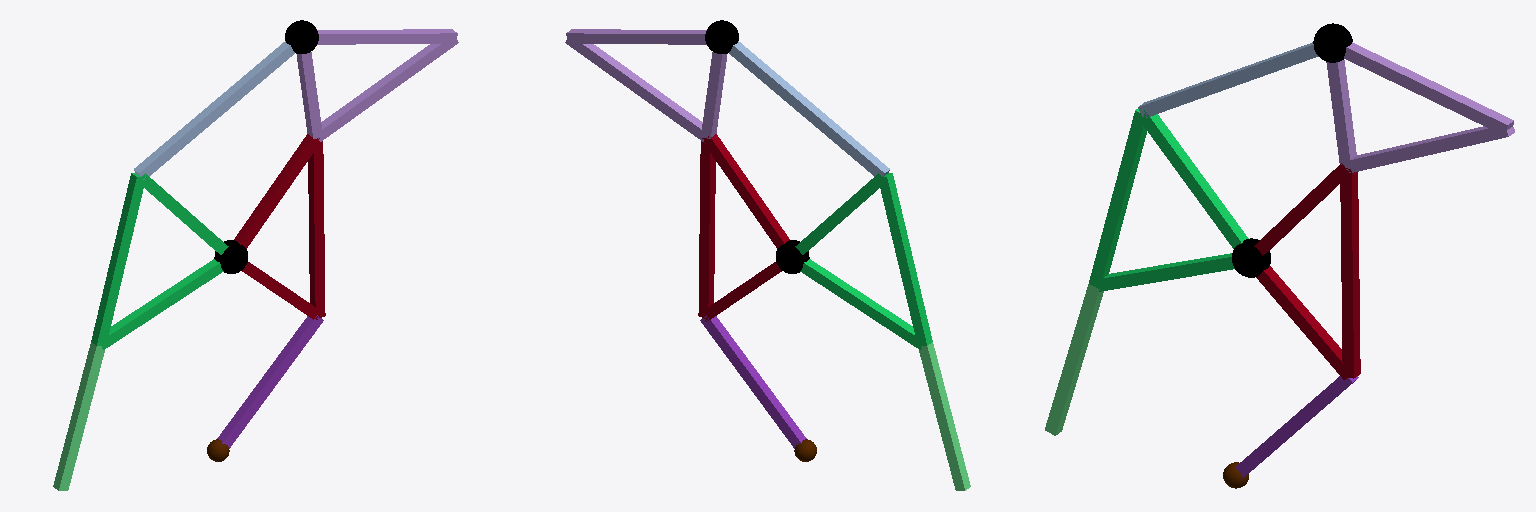
The robot description file, URDF, robot "Robot":
<?xml version="1.0"?>
<robot  name="Robot" >
 <link  name="L3" >
  <visual >
   <origin  rpy="0.0 0.0 0.0"  xyz="-0.0 0.0 0.73786" />
   <geometry >
    <box  size="0.1 0.1 1.4757188079034569" />
   </geometry>
   <material  name="link4_material" >
    <color  rgba="0.5846546273511518 0.27216364093311685 0.7412860803922848 0.7" />
   </material>
  </visual>
  <collision >
   <origin  rpy="0.0 0.0 0.0"  xyz="-0.0 0.0 0.73786" />
   <geometry >
    <box  size="0.1 0.1 1.4757188079034569" />
   </geometry>
   <material  name="link4_material" >
    <color  rgba="0.5846546273511518 0.27216364093311685 0.7412860803922848 0.7" />
   </material>
  </collision>
  <inertial >
   <origin  rpy="0.0 0.0 0.0"  xyz="-0.0 0.0 0.73786" />
   <mass  value="20.807635191438745" />
   <inertia  izz="0.03467939198573125"  iyz="0.0"  ixy="0.0"  ixx="3.7934850549607786"  ixz="0.0"  iyy="3.7934850549607786" />
  </inertial>
 </link>
 <link  name="G" >
  <visual >
   <origin  rpy="0.0 0.0 0.0"  xyz="0.0 0.0 0.0" />
   <geometry >
    <sphere  radius="0.1" />
   </geometry>
   <material  name="link4_material" >
    <color  rgba="0.35370327782722344 0.17731135106041473 0.01819704017948298 0.7" />
   </material>
  </visual>
  <inertial >
   <origin  rpy="0.0 0.0 0.0"  xyz="0.0 0.0 0.0" />
   <mass  value="5.906194188748811" />
   <inertia  izz="0.02362477675499525"  iyz="0.0"  ixy="0.0"  ixx="0.02362477675499525"  ixz="0.0"  iyy="0.02362477675499525" />
  </inertial>
 </link>
 <link  name="L4" >
  <visual >
   <origin  rpy="-3.141592653589793 -0.7330038377215442 3.141592653589793"  xyz="-0.4333703816113429 0.0 1.2668113957263092" />
   <geometry >
    <box  size="0.1 0.1 1.2953733052676362" />
   </geometry>
   <material  name="link4_material" >
    <color  rgba="0.6026866302554417 0.01475141505583688 0.12010644155545103 0.7" />
   </material>
  </visual>
 
  <visual >
   <origin  rpy="0.0 3.5083047578154947e-14 0.0"  xyz="-5.551115123125783e-15 0.0 0.8740756546203539" />
   <geometry >
    <box  size="0.1 0.1 1.7481513092407077" />
   </geometry>
   <material  name="link4_material" >
    <color  rgba="0.6026866302554417 0.01475141505583688 0.12010644155545103 0.7" />
   </material>
  </visual>
 
  <visual >
   <origin  rpy="3.141592653589793 0.8345467114834904 3.141592653589793"  xyz="-0.43337038161133734 0.0 0.3927357411059552" />
   <geometry >
    <box  size="0.1 0.1 1.1697029537450951" />
   </geometry>
   <material  name="link4_material" >
    <color  rgba="0.6026866302554417 0.01475141505583688 0.12010644155545103 0.7" />
   </material>
  </visual>
 
  <inertial >
   <origin  rpy="0.0 -0.013157135472749326 0.0"  xyz="1.011 0.0 1.075" />
   <mass  value="0.07575970000000001" />
   <inertia  izz="185.87635530348638"  iyz="5.3605334040060074e-17"  ixy="1.864105445224134e-16"  ixx="18.585762589772816"  ixz="-30.26657345219157"  iyy="204.28408259825912" />
  </inertial>
 </link>
 <link  name="EE" >
  <visual >
   <origin  rpy="0.0 0.0 0.0"  xyz="0.0 0.0 0.7729016755060114" />
   <geometry >
    <box  size="0.1 0.1 1.5458033510120228" />
   </geometry>
   <material  name="link4_material" >
    <color  rgba="0.6997945221999881 0.5523558028739272 0.8214354914598653 0.7" />
   </material>
  </visual>
 
  <visual >
   <origin  rpy="0.0 -1.2846999394537875 0.0"  xyz="-0.4800125446190915 0.0 0.14120360125827047" />
   <geometry >
    <box  size="0.1 0.1 1.0007007544715851" />
   </geometry>
   <material  name="link4_material" >
    <color  rgba="0.6997945221999881 0.5523558028739272 0.8214354914598653 0.7" />
   </material>
  </visual>
 
  <visual >
   <origin  rpy="-3.141592653589793 -0.649792184270373 3.141592653589793"  xyz="-0.4800125446190915 0.0 0.9141052767642819" />
   <geometry >
    <box  size="0.1 0.1 1.586763372403081" />
   </geometry>
   <material  name="link4_material" >
    <color  rgba="0.6997945221999881 0.5523558028739272 0.8214354914598653 0.7" />
   </material>
  </visual>
 
  <inertial >
   <origin  rpy="0.0 1.1453466894248545 0.0"  xyz="0.988 0.0 2.823" />
   <mass  value="0.07420049999999997" />
   <inertia  izz="236.79830132929632"  iyz="0.0"  ixy="0.0"  ixx="472.19767887470726"  ixz="329.3859390125132"  iyy="708.8216090290036" />
  </inertial>
 </link>
 <link  name="L6" >
  <visual >
   <origin  rpy="0.0 0.0 0.0"  xyz="0.0 0.0 0.6862" />
   <geometry >
    <box  size="0.1 0.1 1.3724011804133658" />
   </geometry>
   <material  name="link4_material" >
    <color  rgba="0.4375502931481964 0.8903025395580061 0.5605078254013421 0.7" />
   </material>
  </visual>
 
  <inertial >
   <origin  rpy="0.0 0.0 0.0"  xyz="0.0 0.0 0.6862" />
   <mass  value="19.35085664382846" />
   <inertia  izz="0.03225142773971411"  iyz="0.0"  ixy="0.0"  ixx="3.0533797326866274"  ixz="0.0"  iyy="3.0533797326866274" />
  </inertial>
 </link>
 <link  name="L5" >
  <visual >
   <origin  rpy="0.0 -1.0072807061778262 0.0"  xyz="0.5847109133820485 0.0 1.2285098281136912" />
   <geometry >
    <box  size="0.1 0.1 1.383305100113493" />
   </geometry>
   <material  name="link4_material" >
    <color  rgba="0.11417043807492533 0.8108410874863728 0.39544813532895906 0.7" />
   </material>
  </visual>
 
  <visual >
   <origin  rpy="-3.141592653589793 -0.937225197803735 3.141592653589793"  xyz="0.5847109133820484 0.0 0.4295278195553005" />
   <geometry >
    <box  size="0.1 0.1 1.45104238394335" />
   </geometry>
   <material  name="link4_material" >
    <color  rgba="0.11417043807492533 0.8108410874863728 0.39544813532895906 0.7" />
   </material>
  </visual>
 
  <visual >
   <origin  rpy="0.0 -6.661338147750939e-16 0.0"  xyz="1.1102230246251565e-16 0.0 0.7989820085583907" />
   <geometry >
    <box  size="0.1 0.1 1.5979640171167815" />
   </geometry>
   <material  name="link4_material" >
    <color  rgba="0.11417043807492533 0.8108410874863728 0.39544813532895906 0.7" />
   </material>
  </visual>
 
  <inertial >
   <origin  rpy="0.0 0.2581837243147247 0.0"  xyz="-1.216 0.0 1.317" />
   <mass  value="0.09343470000000005" />
   <inertia  izz="381.84130620143867"  iyz="-3.339889843882013e-17"  ixy="2.862557175833391e-16"  ixx="14.817131836184332"  ixz="16.367869362284935"  iyy="396.4388664926229" />
  </inertial>
 </link>
 <link  name="L7" >
  <visual >
   <origin  rpy="0.0 0.0 0.0"  xyz="0.0 0.0 0.9555" />
   <geometry >
    <box  size="0.1 0.1 1.9110083725614602" />
   </geometry>
   <material  name="link4_material" >
    <color  rgba="0.6420406309170132 0.7394334214443012 0.8687690999627885 0.7" />
   </material>
  </visual>
 
  <inertial >
   <origin  rpy="0.0 0.0 0.0"  xyz="0.0 0.0 0.9555" />
   <mass  value="26.945218053116594" />
   <inertia  izz="0.044908696755194336"  iyz="0.0"  ixy="0.0"  ixx="8.222676840438707"  ixz="0.0"  iyy="8.222676840438707" />
  </inertial>
 </link>
 <joint  name="Gabs"  type="revolute" >
  <parent  link="G" />
  <child  link="L3" />
  <origin  rpy="0.0 0.7547270559595018 0.0"  xyz="0.0 0.0 0.0" />
  <axis  xyz="0 1 0" />
  <limit  lower="-3.141592653589793"  effort="1"  velocity="10"  upper="3.141592653589793" />
  <dynamics  friction="0"  damping="0.05" />
 </joint>
 <joint  name="J1m"  type="revolute" >
  <parent  link="L3" />
  <child  link="L4" />
  <origin  rpy="0.0 -0.767884191432251 0.0"  xyz="-3.618927976152817e-17 0.0 1.4757188079034569" />
  <axis  xyz="0 1 0" />
  <limit  lower="-3.141592653589793"  effort="1"  velocity="10"  upper="3.141592653589793" />
  <dynamics  friction="0"  damping="0.05" />
 </joint>
 <joint  name="J2m"  type="revolute" >
  <parent  link="L4" />
  <child  link="EE" />
  <origin  rpy="0.0 1.1585038248976036 0.0"  xyz="-1.1102230246251565e-14 0.0 1.7481513092407077" />
  <axis  xyz="0 1 0" />
  <limit  lower="-3.141592653589793"  effort="1"  velocity="10"  upper="3.141592653589793" />
  <dynamics  friction="0"  damping="0.05" />
 </joint>
 <joint  name="G2"  type="revolute" >
  <parent  link="G" />
  <child  link="L6" />
  <origin  rpy="0.0 0.2851056794268283 0.0"  xyz="-1.602 0.0 0.0" />
  <axis  xyz="0 1 0" />
  <limit  lower="-3.141592653589793"  effort="1"  velocity="10"  upper="3.141592653589793" />
  <dynamics  friction="0"  damping="0.05" />
 </joint>
 <joint  name="J1b1"  type="revolute" >
  <parent  link="L6" />
  <child  link="L5" />
  <origin  rpy="0.0 -0.0269219551121036 0.0"  xyz="2.220446049250313e-16 0.0 1.3724011804133658" />
  <axis  xyz="0 1 0" />
  <limit  lower="-3.141592653589793"  effort="1"  velocity="10"  upper="3.141592653589793" />
  <dynamics  friction="0"  damping="0.05" />
 </joint>
 <link  name="J2b1_L4Pseudo" >
  <visual >
   <geometry >
    <sphere  radius="0.15000000000000002" />
   </geometry>
   <material  name="link4_material" >
    <color  rgba="0 0 0 0.3" />
   </material>
  </visual>
 </link>
 <joint  name="J2b1_L4_revolute"  type="revolute" >
  <parent  link="L4" />
  <child  link="J2b1_L4Pseudo" />
  <origin  rpy="0.0 1.1585038248976036 0.0"  xyz="-0.8667407632226747 0.0 0.7854714822119104" />
  <axis  xyz="0 1 0" />
  <limit  lower="-3.141592653589793"  effort="1"  velocity="10"  upper="3.141592653589793" />
  <dynamics  friction="0"  damping="0.05" />
 </joint>
 <joint  name="J2b1_L4_fix"  type="fixed" >
  <parent  link="L5" />
  <child  link="J2b1_L5Pseudo" />
  <origin  rpy="0.0 0.88716296511013 0.0"  xyz="1.1694218267640968 0.0 0.8590556391106011" />
 </joint>
 <link  name="J2b1_L5Pseudo" >
  <visual >
   <geometry >
    <sphere  radius="0.15000000000000002" />
   </geometry>
   <material  name="link4_material" >
    <color  rgba="1 1 1 0.3" />
   </material>
  </visual>
 </link>
 <joint  name="J1b2"  type="revolute" >
  <parent  link="L5" />
  <child  link="L7" />
  <origin  rpy="0.0 0.7911298922393737 0.0"  xyz="2.220446049250313e-16 0.0 1.5979640171167815" />
  <axis  xyz="0 1 0" />
  <limit  lower="-3.141592653589793"  effort="1"  velocity="10"  upper="3.141592653589793" />
  <dynamics  friction="0"  damping="0.05" />
 </joint>
 <link  name="J2b2_L7Pseudo" >
  <visual >
   <geometry >
    <sphere  radius="0.15000000000000002" />
   </geometry>
   <material  name="link4_material" >
    <color  rgba="0 0 0 0.3" />
   </material>
  </visual>
 </link>
 <joint  name="J2b2_L7_revolute"  type="revolute" >
  <parent  link="L7" />
  <child  link="J2b2_L7Pseudo" />
  <origin  rpy="0.0 0.0 0.0"  xyz="0.0 0.0 1.91100837256146" />
  <axis  xyz="0 1 0" />
  <limit  lower="-3.141592653589793"  effort="1"  velocity="10"  upper="3.141592653589793" />
  <dynamics  friction="0"  damping="0.05" />
 </joint>
 <joint  name="J2b2_L7_fix"  type="fixed" >
  <parent  link="EE" />
  <child  link="J2b2_EEPseudo" />
  <origin  rpy="0.0 -0.09603307287075635 0.0"  xyz="-0.9600250892381832 0.0 0.2824072025165405" />
 </joint>
 <link  name="J2b2_EEPseudo" >
  <visual >
   <geometry >
    <sphere  radius="0.15000000000000002" />
   </geometry>
   <material  name="link4_material" >
    <color  rgba="1 1 1 0.3" />
   </material>
  </visual>
 </link>
</robot>

--- Facts derived from the render (not from the file) ---
3 views of the same robot in one strip: view 1: azimuth 30°, elevation 25°; view 2: azimuth 150°, elevation 25°; view 3: azimuth 330°, elevation 25° (orthographic).
Robot: Robot — 11 links, 10 joints (8 revolute, 2 fixed); root link G; default pose: every joint at zero.
Visible links, largest first — view 1: L5, EE, L4, L7, L3, L6, J2b2_L7Pseudo, J2b1_L4Pseudo; view 2: L5, EE, L4, L7, L3, L6, J2b2_L7Pseudo, J2b1_L4Pseudo; view 3: L5, L4, EE, L7, L6, L3, J2b2_L7Pseudo, J2b1_L4Pseudo.
Boxes of the visible links, x1,y1,x2,y2 form: L5: (91,173,228,349); EE: (297,29,458,141); L4: (234,134,325,319); L7: (134,41,294,179); L3: (217,315,323,448); L6: (53,342,104,490); J2b2_L7Pseudo: (285,20,318,53); J2b1_L4Pseudo: (214,240,247,273); L5: (795,173,932,349); EE: (565,29,726,141); L4: (698,134,789,321); L7: (729,41,889,176); L3: (700,315,806,448); L6: (919,342,970,490); J2b2_L7Pseudo: (705,20,738,53); J2b1_L4Pseudo: (776,240,809,273); L5: (1089,109,1248,291); L4: (1254,163,1360,379); EE: (1326,42,1514,172); L7: (1138,42,1318,117); L6: (1045,284,1103,435); L3: (1235,376,1358,477); J2b2_L7Pseudo: (1313,23,1352,62); J2b1_L4Pseudo: (1232,238,1270,277).
Size in the robot's own frame: 4.07 by 0.3 by 4.06 metres.
Geometry: primitives only (box / cylinder / sphere), no mesh files.
